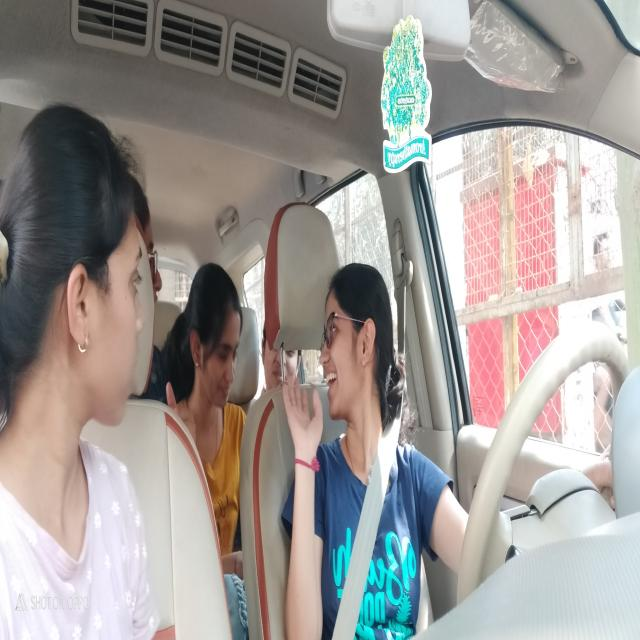LeftRight: (319, 260, 402, 446)
person: (6, 96, 146, 440), (184, 257, 247, 422), (132, 181, 163, 328), (259, 319, 302, 391)
talking: (322, 365, 340, 403)
